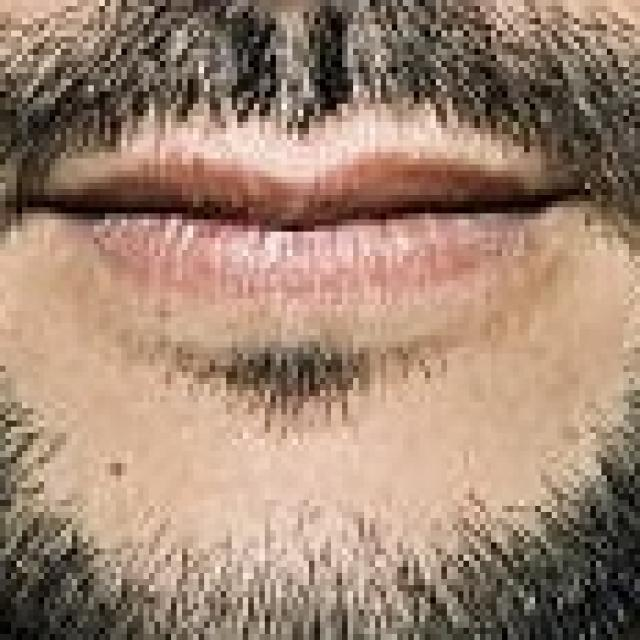closed-mouth: (18, 134, 566, 308)
